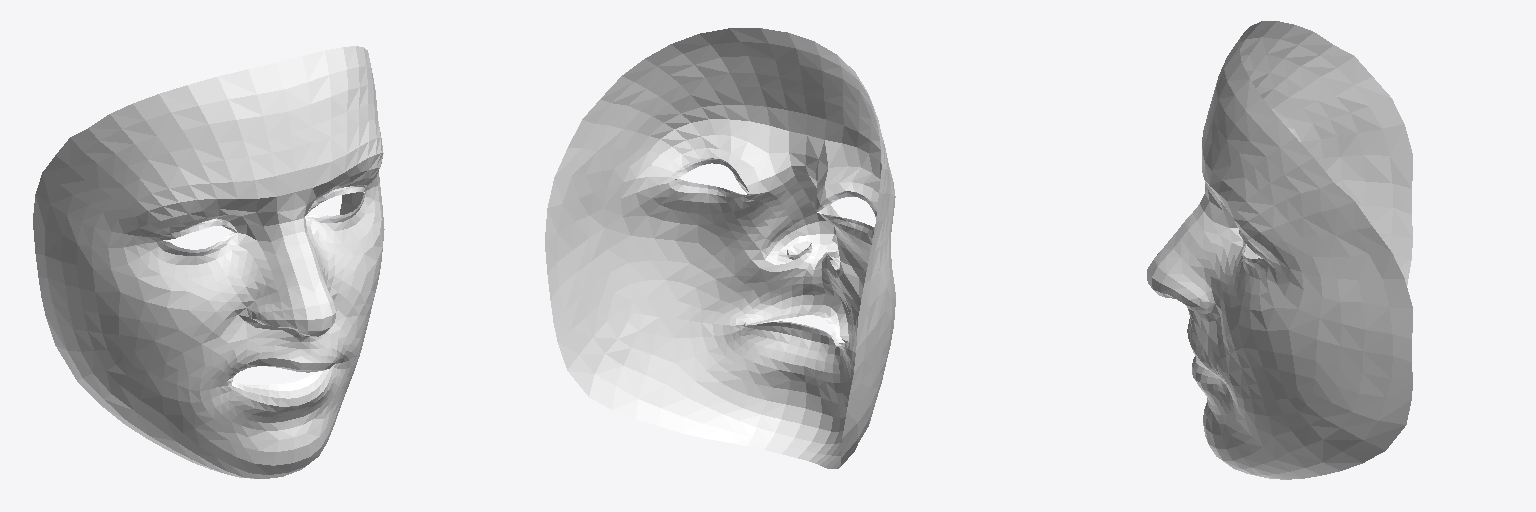
The model's file is mouthUpperUp_R.obj.
The picture shows the model from 3 angles: view 1: azimuth 30°, elevation 25°; view 2: azimuth 150°, elevation 25°; view 3: azimuth 270°, elevation 25°; orthographic projection.
Parts seen in each view (by area): view 1: default; view 2: default; view 3: default.
Boxes of the visible parts, <box> form: default: <box>33,46,384,478</box>; default: <box>545,28,895,468</box>; default: <box>1147,21,1412,479</box>.
Bounding box in the file's own units: 0.1447 × 0.182 × 0.1055.